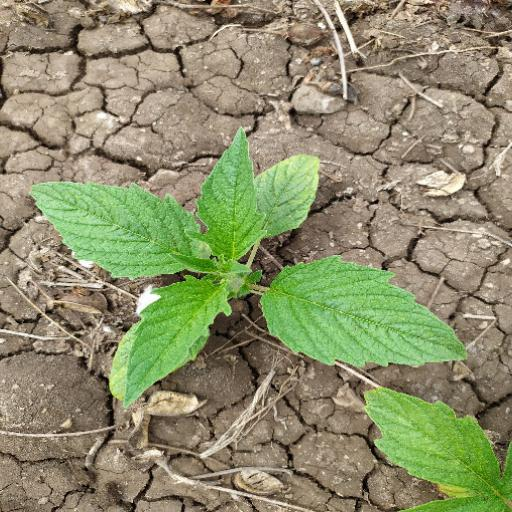crop: (30, 131, 467, 407)
